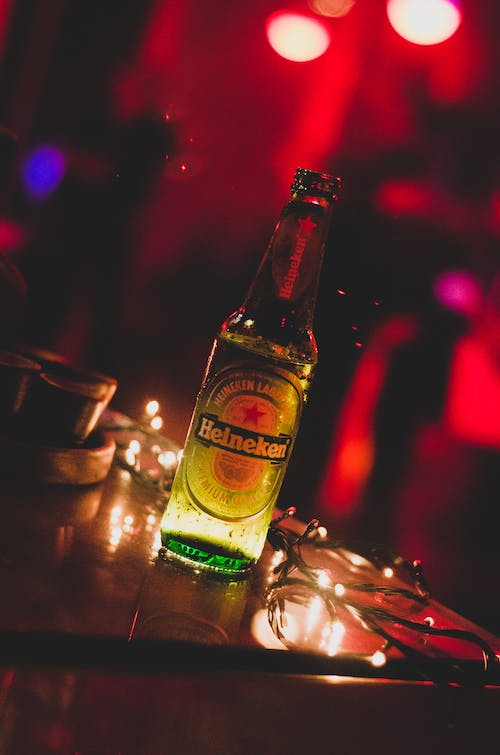alcohol: (156, 164, 344, 576)
